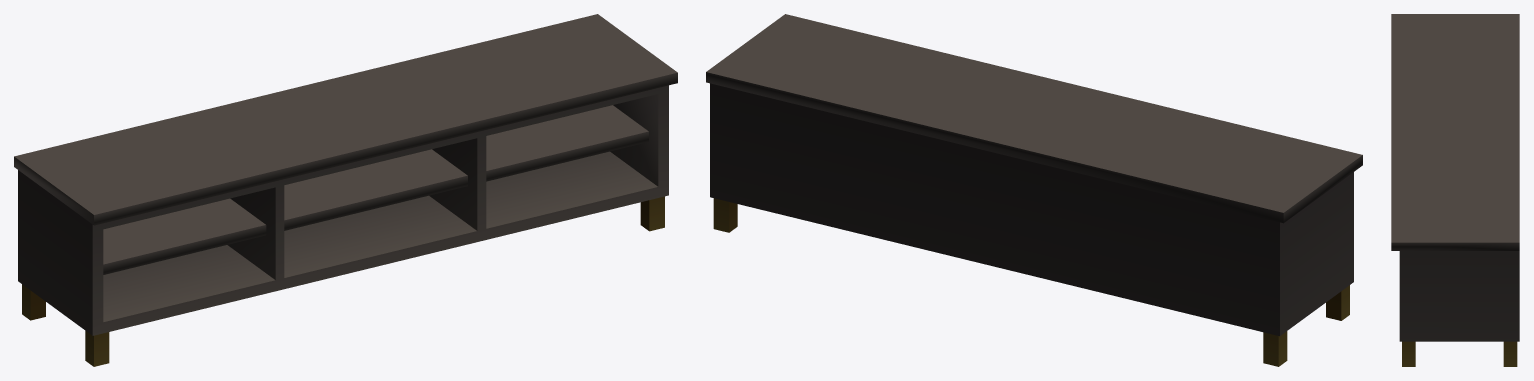
File: TSP_TV_Stand_02C.fbx
3 renders of one model, left to right at view 1: azimuth 30°, elevation 25°; view 2: azimuth 150°, elevation 25°; view 3: azimuth 270°, elevation 25°, orthographic. The views are drawn at different scales.
Visible parts, largest first — view 1: TSP_TV_Stand_02C; view 2: TSP_TV_Stand_02C; view 3: TSP_TV_Stand_02C.
Part boxes in pixels (bbox=[...]): TSP_TV_Stand_02C: bbox=[14, 14, 677, 366]; TSP_TV_Stand_02C: bbox=[706, 14, 1362, 366]; TSP_TV_Stand_02C: bbox=[1391, 14, 1519, 366].
Size of the model in its own units: 2.32 by 0.6 by 0.5503.
